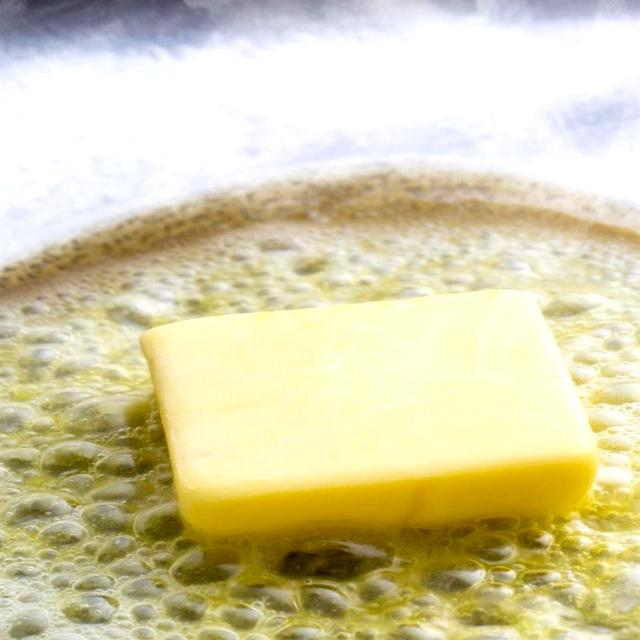Butter: (134, 282, 605, 546)
